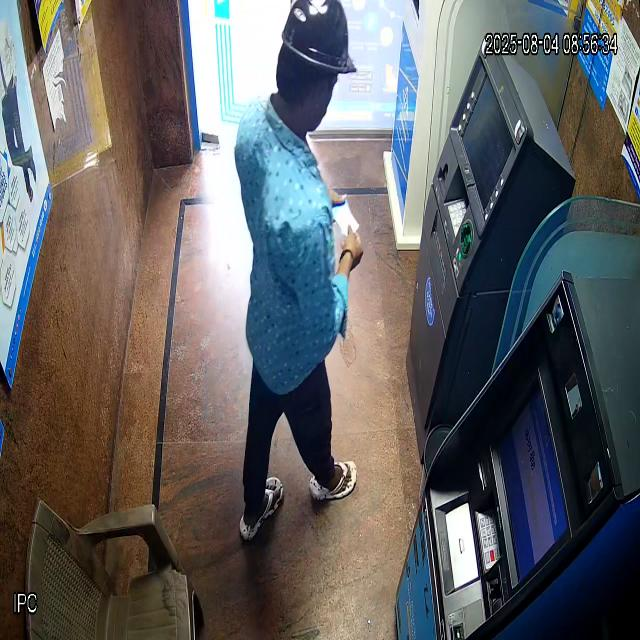helmet: (271, 0, 356, 147)
